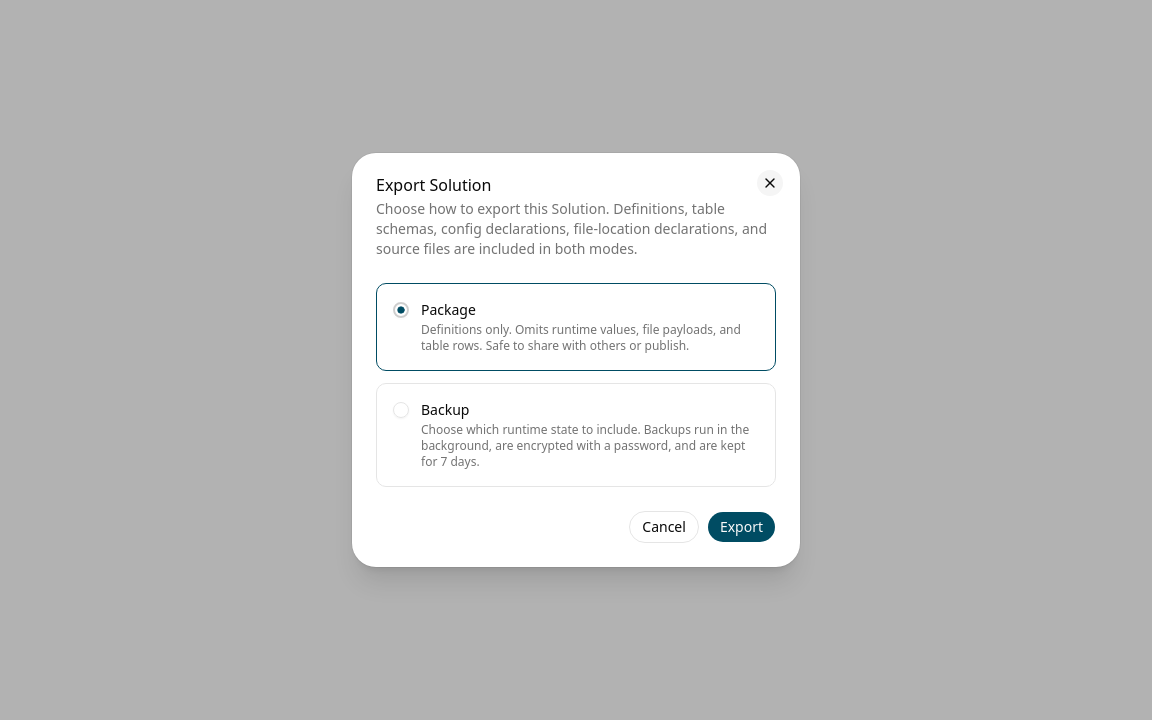
explains what package and backup exports include
The width and height of the screenshot is (1152, 720).
Expected: the text "Definitions, table schemas" is shown, left=376, top=199, right=767, bottom=258
Expected: the text "Package" is shown, left=421, top=300, right=476, bottom=319
Click the radio button named "backup". click: (401, 410)
box: left=393, top=402, right=409, bottom=418
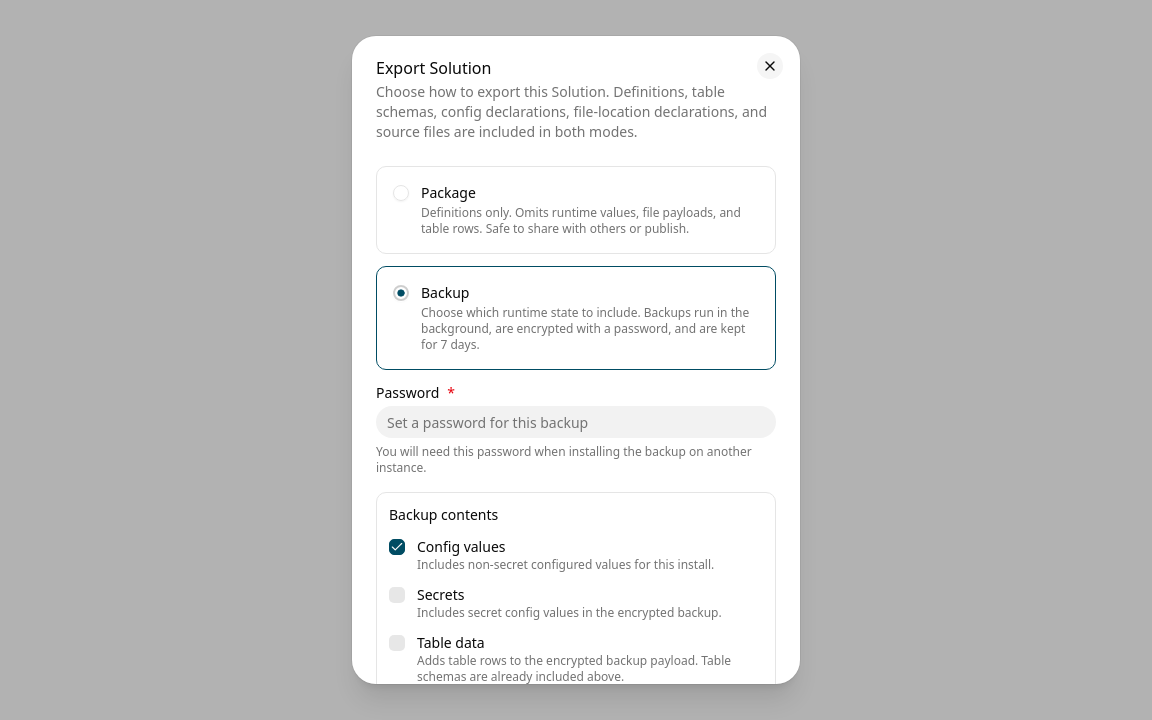
Now the text "table schemas are already included" is shown, box left=417, top=652, right=731, bottom=684
